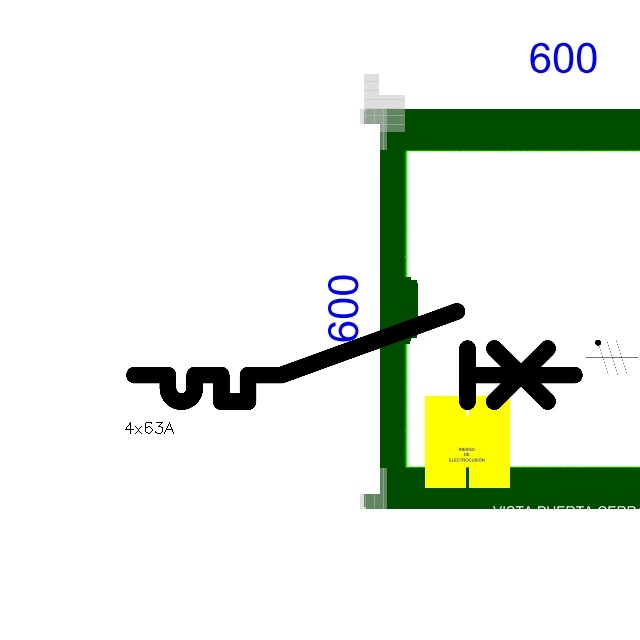interruptor_termomagnetico: (123, 300, 585, 413)
